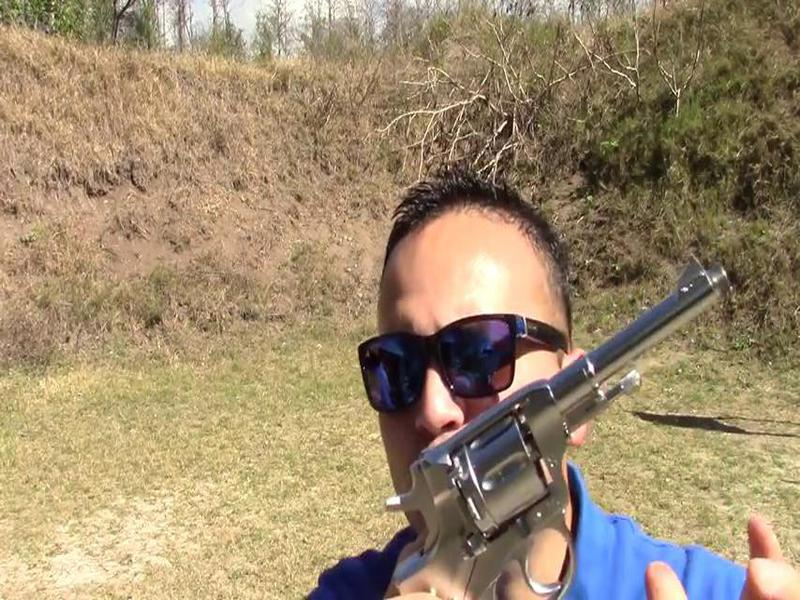Revolver: (408, 250, 738, 600)
